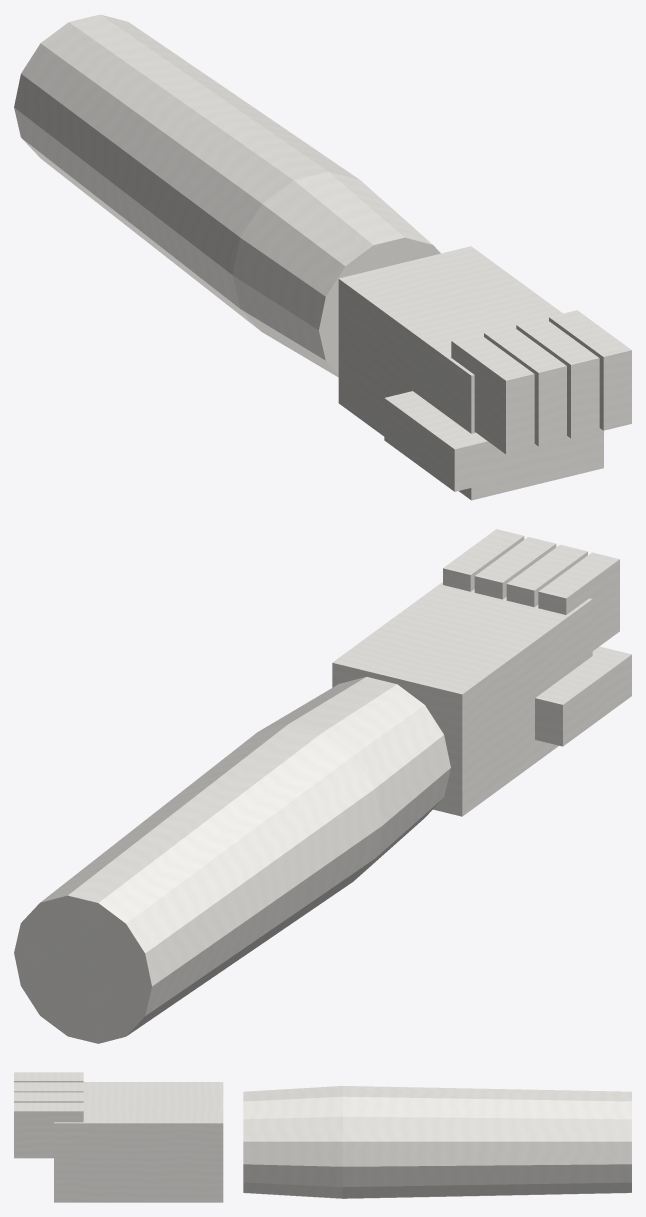
Rendered from hand.gltf.
The picture shows the model from 3 angles, top to bottom: view 1: azimuth 30°, elevation 25°; view 2: azimuth 150°, elevation 25°; view 3: azimuth 270°, elevation 25°; orthographic projection. The views are drawn at different scales.
Visible parts, largest first — view 1: jx_hand; view 2: jx_hand; view 3: jx_hand.
Boxes of the visible parts, <box> form: jx_hand: <box>14,14,631,500</box>; jx_hand: <box>14,529,631,1043</box>; jx_hand: <box>14,1072,631,1202</box>.
Size of the model in its own units: 0.128 by 0.1131 by 0.62.
1 material, 1 textured.
